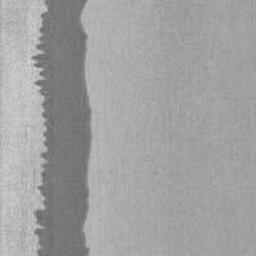Water spot: (29, 0, 93, 256)
